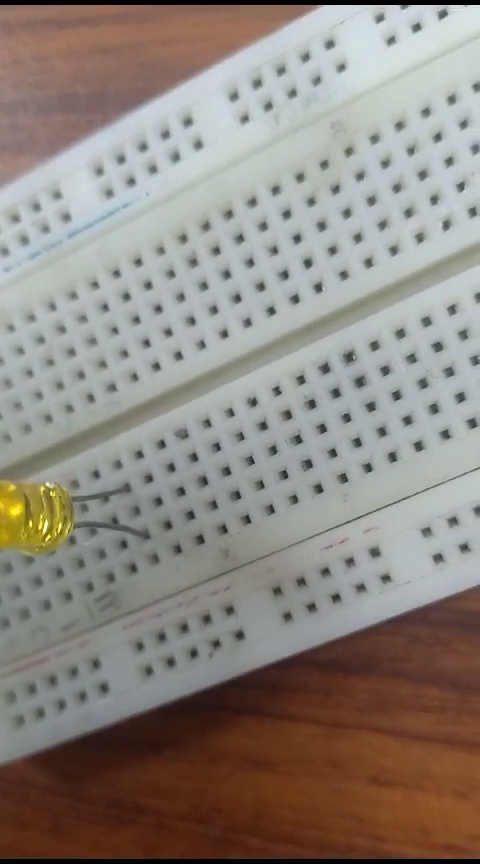LED: (2, 469, 160, 553)
